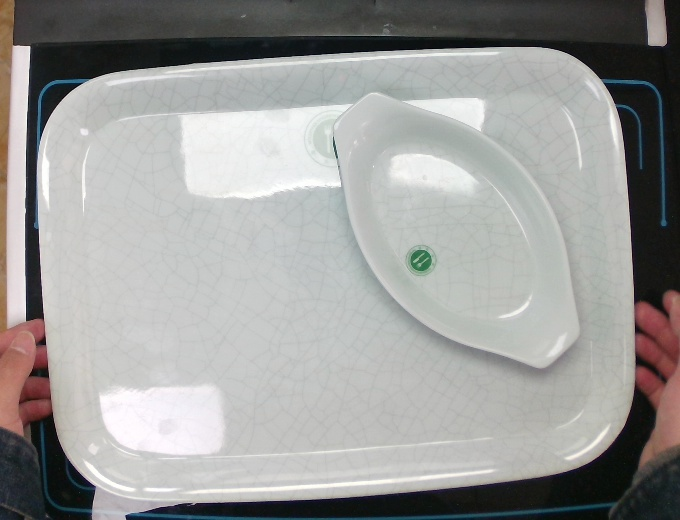JYsf-Yu_Pan: (327, 88, 588, 375)
